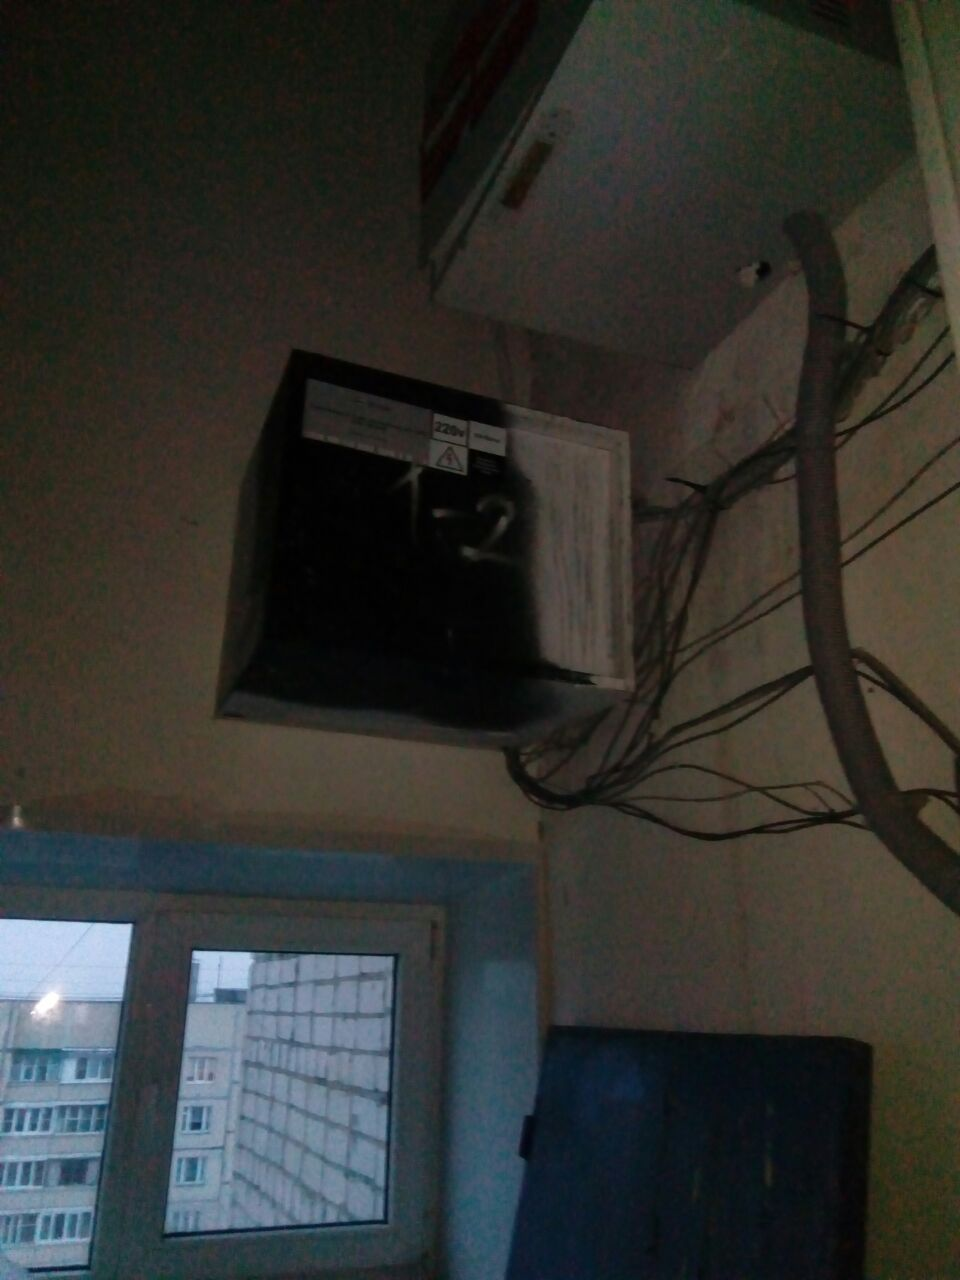shta-9m: (203, 334, 645, 766)
